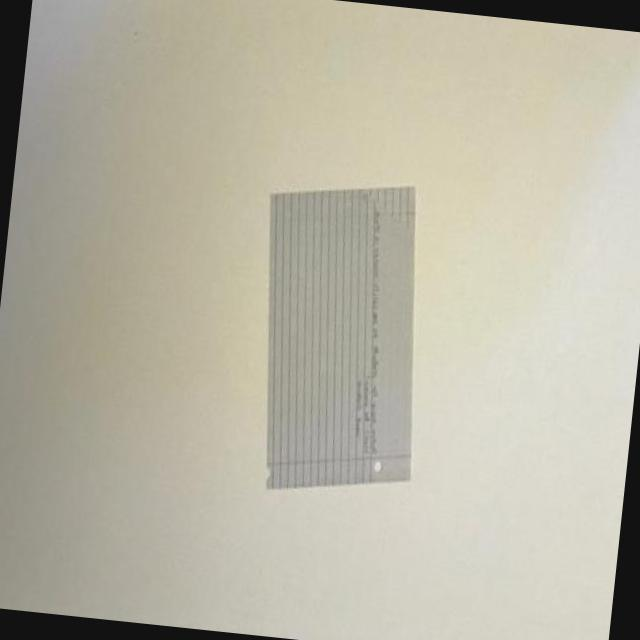paper: (248, 166, 431, 500)
